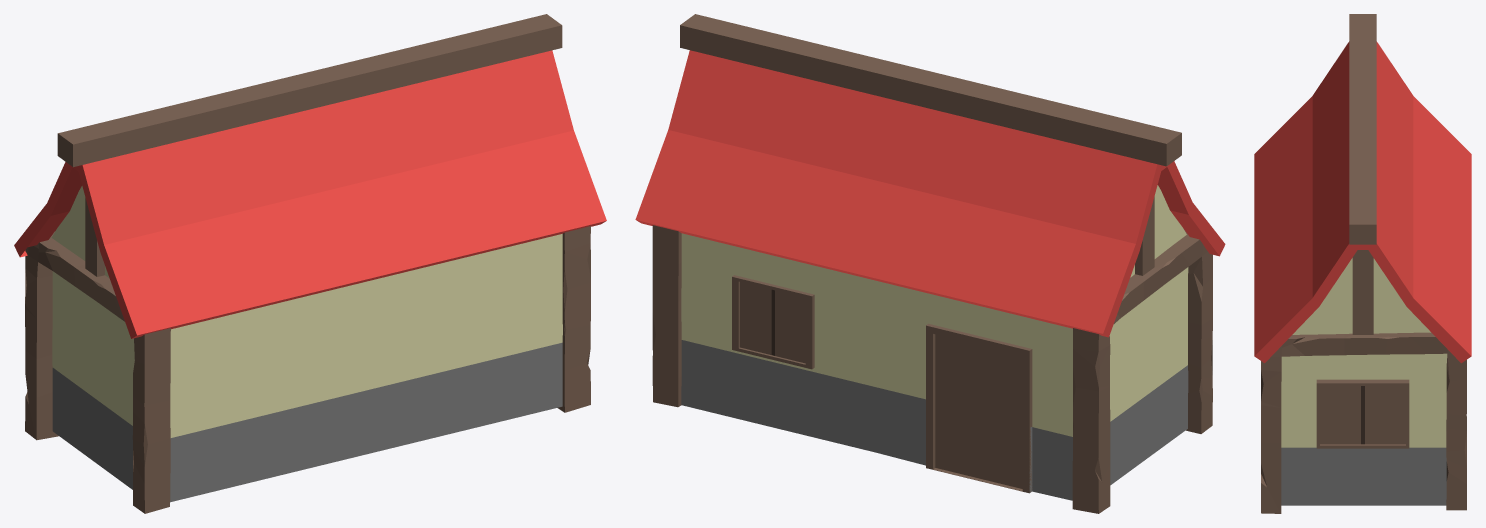
The model's file is house1.fbx.
3 renders of one model, left to right at view 1: azimuth 30°, elevation 25°; view 2: azimuth 150°, elevation 25°; view 3: azimuth 270°, elevation 25°, orthographic. The views are drawn at different scales.
Visible parts, largest first — view 1: Roof, wall, Stone wall, Roof beam, pillars2, pillars1; view 2: Roof, wall, Stone wall, windowsndoors, Roof beam, pillars2, pillars1; view 3: Roof, wall, pillars1, Stone wall, Roof beam, windowsndoors.
Boxes of the visible parts, bbox=[...] form: Roof: bbox=[14, 50, 606, 338]; wall: bbox=[51, 186, 562, 437]; Stone wall: bbox=[52, 342, 562, 502]; Roof beam: bbox=[57, 14, 562, 167]; pillars2: bbox=[25, 198, 170, 513]; pillars1: bbox=[557, 226, 590, 412]; Roof: bbox=[635, 50, 1225, 337]; wall: bbox=[681, 185, 1188, 436]; Stone wall: bbox=[681, 340, 1188, 500]; windowsndoors: bbox=[732, 275, 1032, 493]; Roof beam: bbox=[680, 14, 1181, 166]; pillars2: bbox=[1072, 196, 1212, 513]; pillars1: bbox=[652, 225, 681, 407]; Roof: bbox=[1254, 41, 1471, 363]; wall: bbox=[1281, 258, 1447, 447]; pillars1: bbox=[1261, 250, 1466, 513]; Stone wall: bbox=[1281, 447, 1446, 505]; Roof beam: bbox=[1349, 14, 1376, 244]; windowsndoors: bbox=[1316, 379, 1409, 448].
Size of the model in its own units: 640 by 427 by 279.
